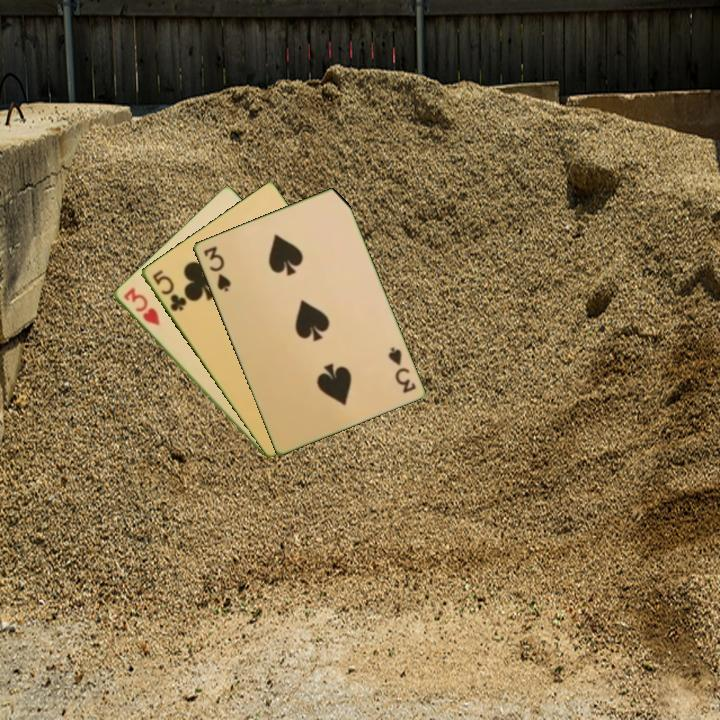3h: (119, 283, 162, 329)
3s: (384, 343, 418, 396), (200, 243, 233, 294)
5c: (148, 266, 189, 314)
